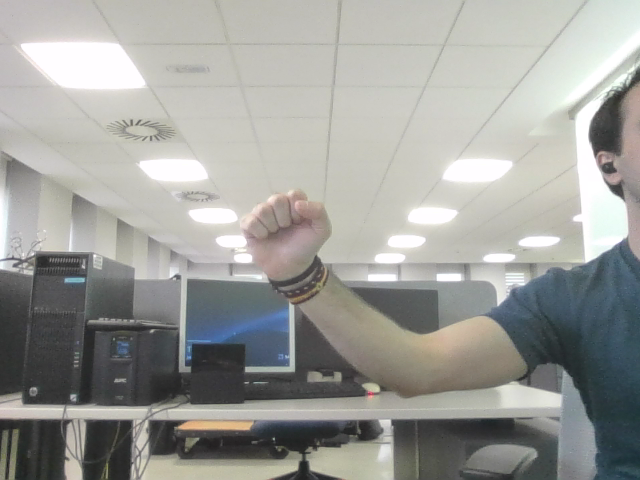Puño: (250, 198, 315, 251)
